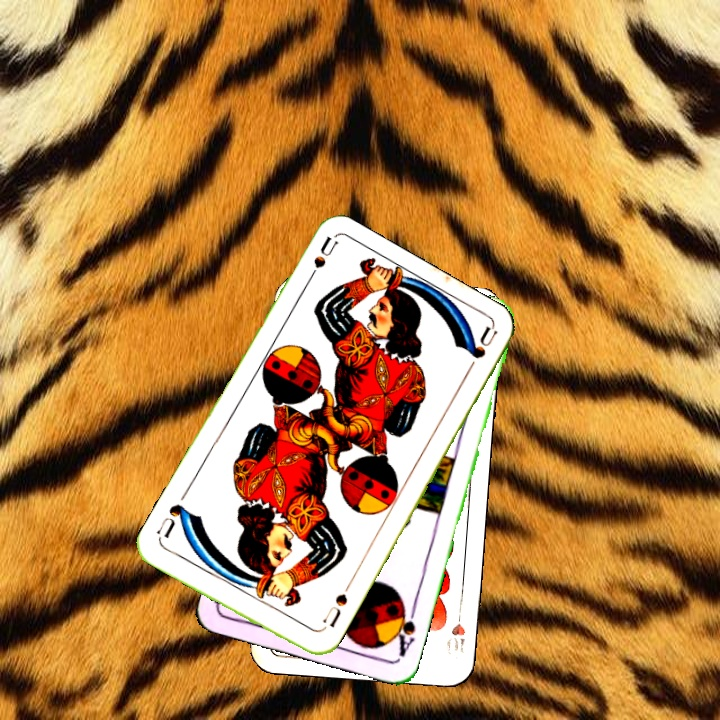H10: (443, 602, 468, 658)
SA: (388, 598, 419, 660)
SU: (300, 234, 340, 290), (316, 589, 351, 634)
